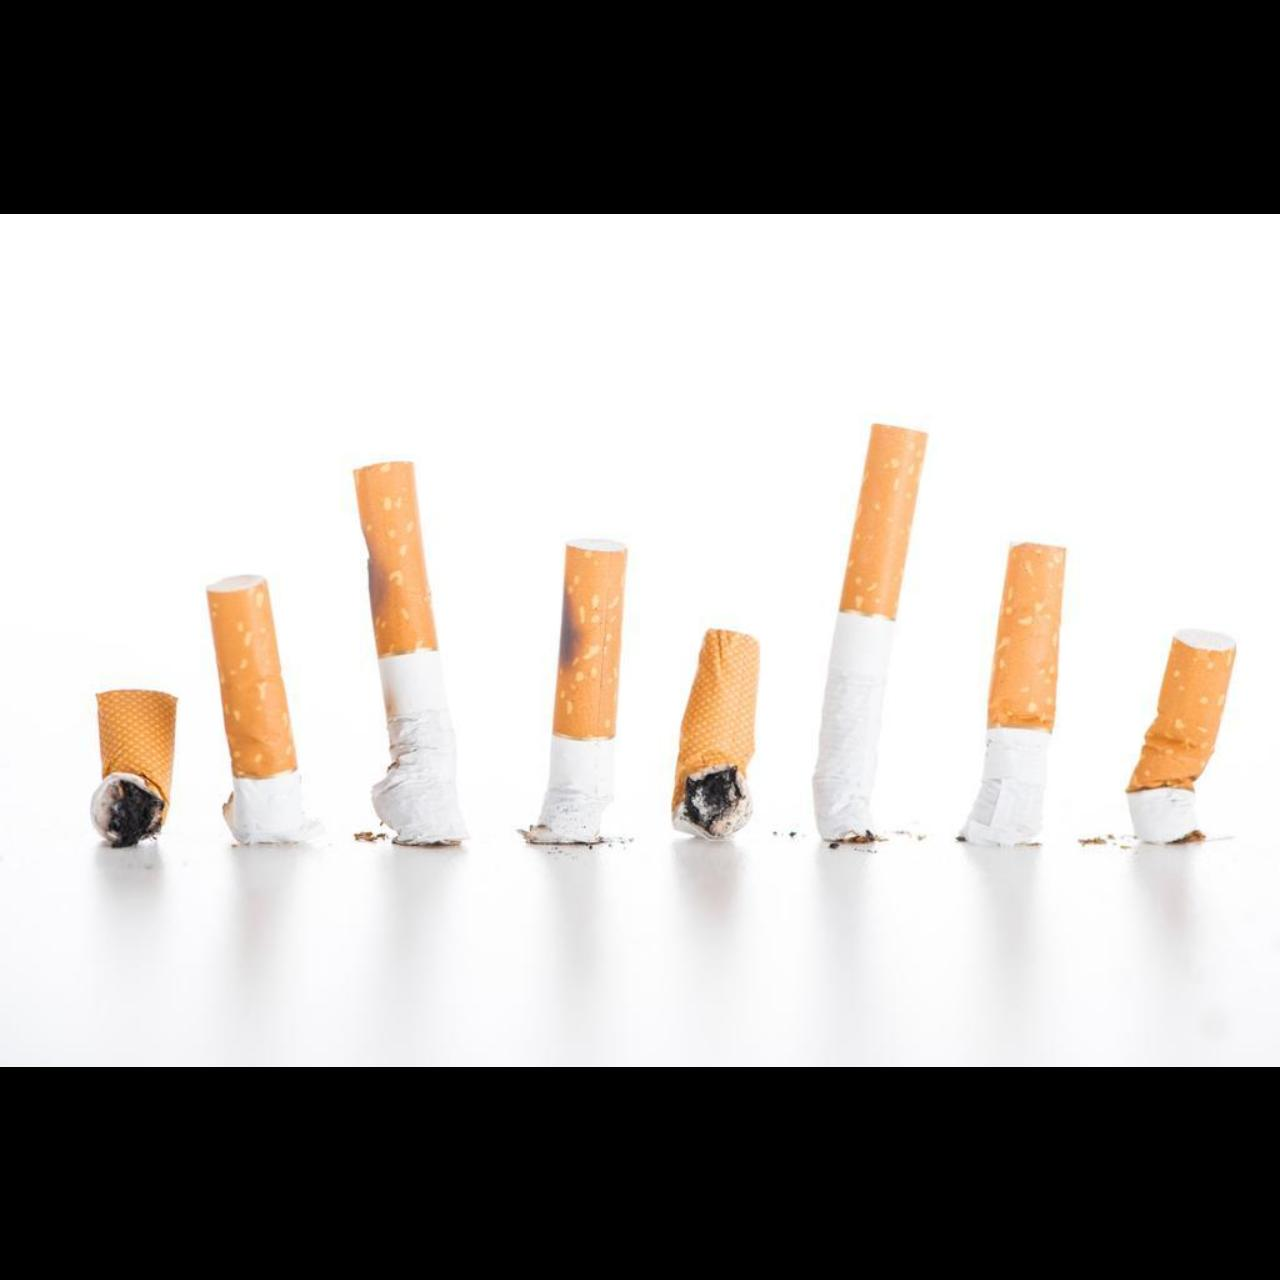cigarettes_butts: (812, 423, 928, 844), (355, 462, 468, 840), (956, 543, 1067, 851), (526, 539, 627, 844), (205, 574, 308, 843), (1125, 628, 1235, 844), (672, 628, 757, 840), (89, 688, 178, 847)
